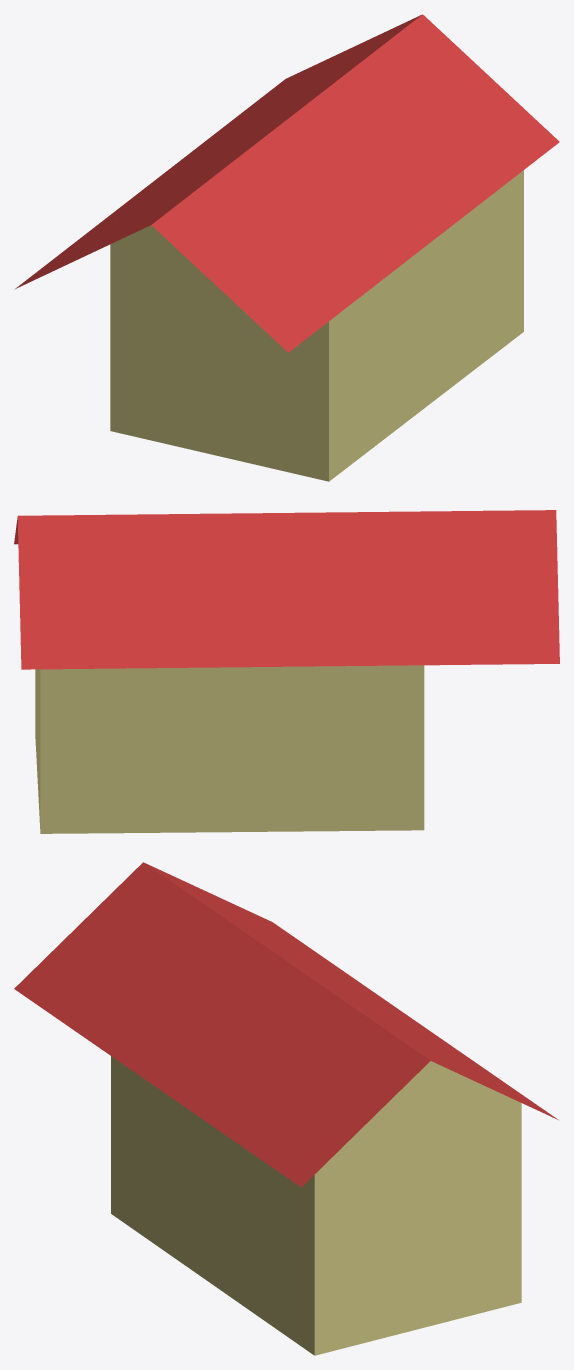
The picture shows the model from 3 angles, top to bottom: view 1: azimuth 30°, elevation 25°; view 2: azimuth 150°, elevation 25°; view 3: azimuth 270°, elevation 25°; orthographic projection. The views are drawn at different scales.
Bounding box in the file's own units: 20.93 × 18.19 × 10.12.
